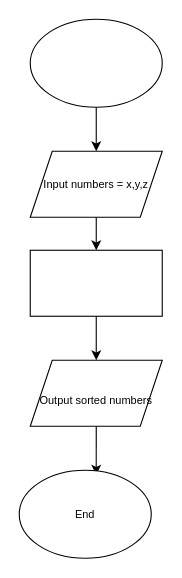
The diagram is 182 pixels wide and 578 high, and some of its shapes have lost their labels. Each missing label, with the centre of its shape:
"SORT x,y and z" goes at pixel 95 282.
"Start" goes at pixel 95 62.
